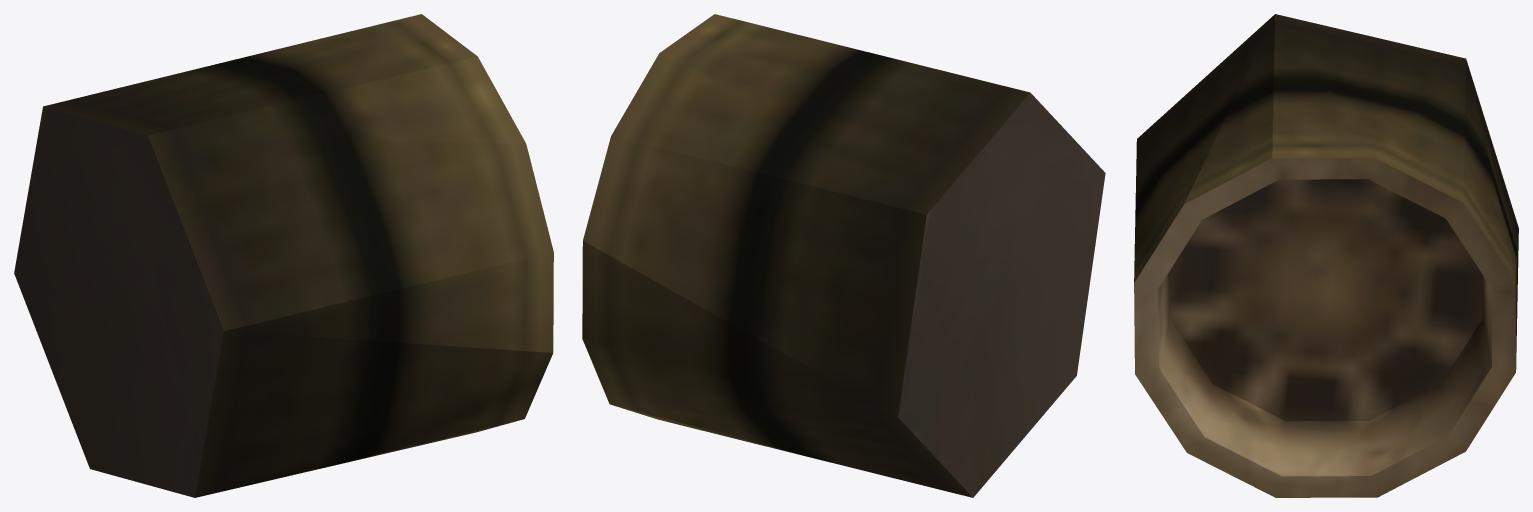
File: FrontWheel.fbx
The picture shows the model from 3 angles, left to right: view 1: azimuth 30°, elevation 25°; view 2: azimuth 150°, elevation 25°; view 3: azimuth 270°, elevation 25°; orthographic projection. The views are drawn at different scales.
Parts seen in each view (by area): view 1: FrontWheel; view 2: FrontWheel; view 3: FrontWheel.
Boxes of the visible parts, x1=… form: FrontWheel: x1=14, y1=14, x2=553, y2=497; FrontWheel: x1=582, y1=14, x2=1105, y2=497; FrontWheel: x1=1134, y1=14, x2=1518, y2=497.
Size of the model in its own units: 0.5319 by 0.5815 by 0.5957.
